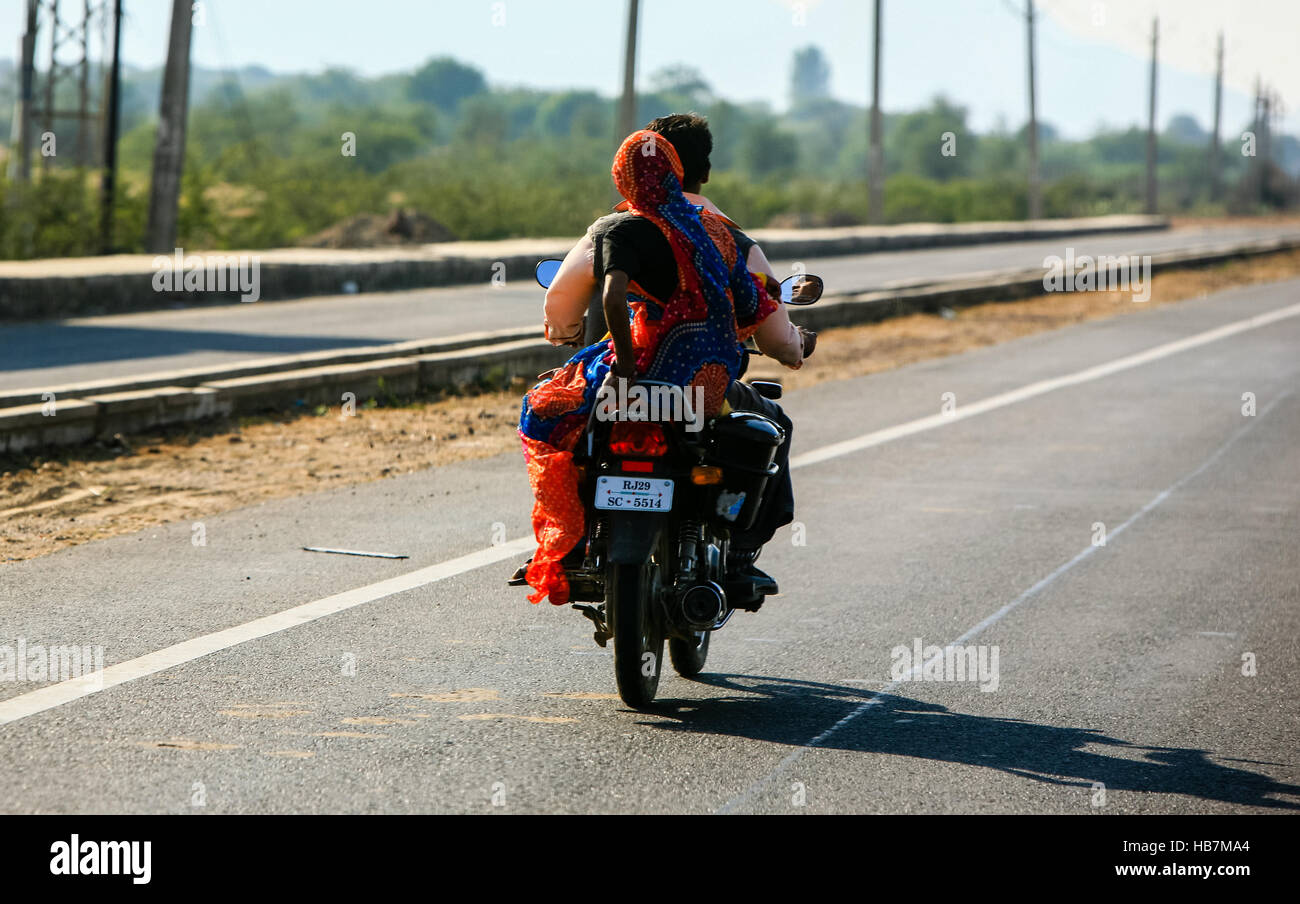motor: (524, 252, 824, 711)
no helmet: (647, 109, 716, 190), (608, 134, 682, 207)
number: (588, 472, 672, 516)
